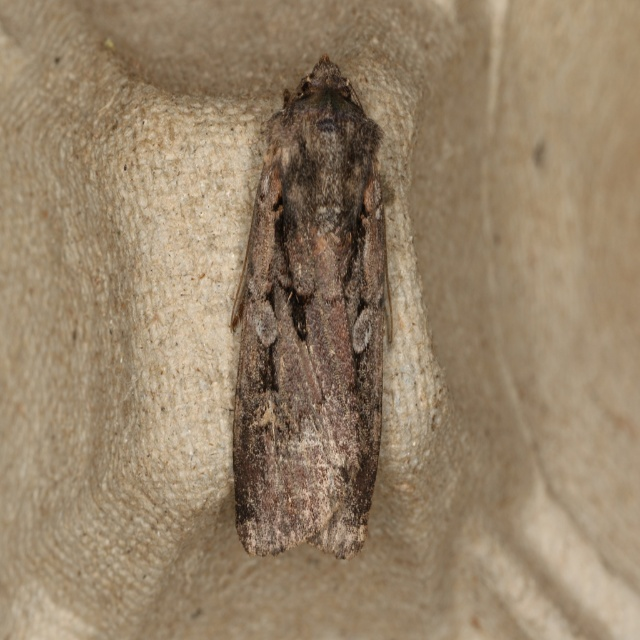Moths and butterflies: (228, 57, 394, 562)
